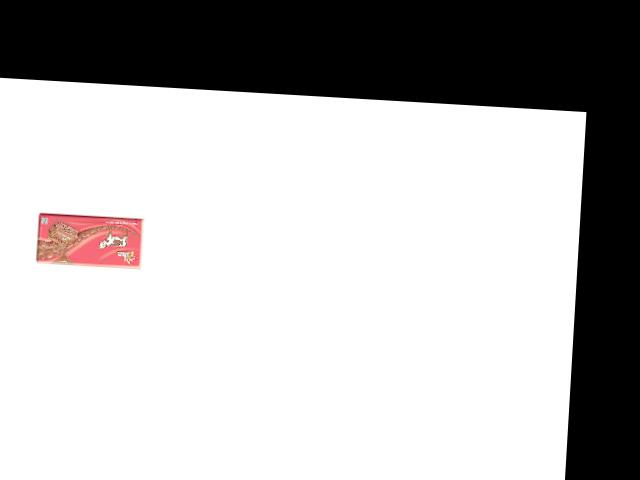chocolate: (31, 221, 133, 279)
